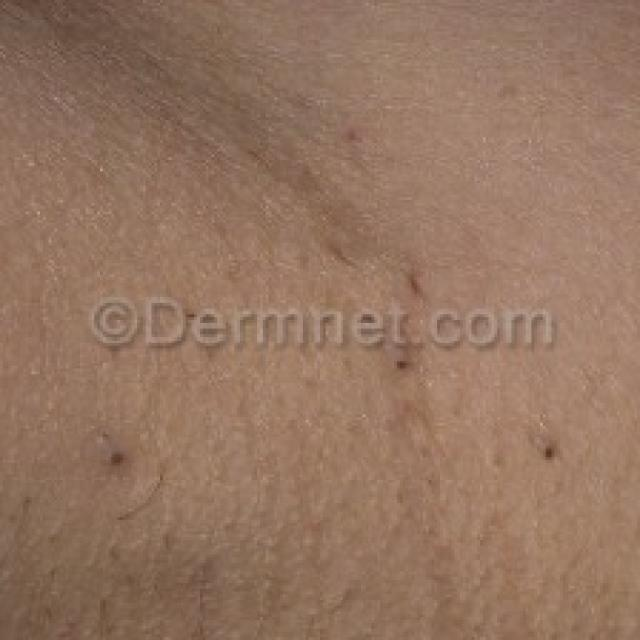Acne: (95, 438, 130, 473), (538, 435, 565, 463), (395, 356, 410, 373)
